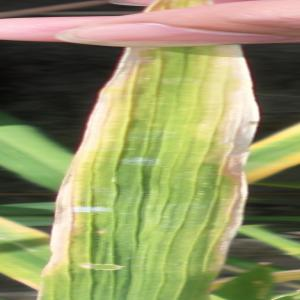Bacterial_Blight: (73, 47, 258, 300)
